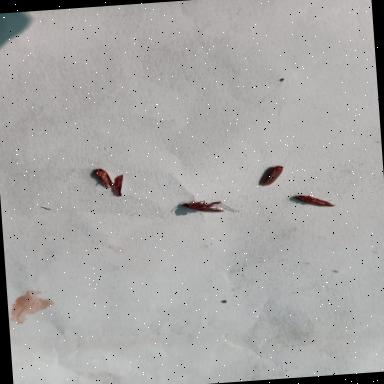pbw: (176, 196, 229, 216), (292, 189, 339, 210), (256, 163, 289, 188), (87, 166, 116, 190)
